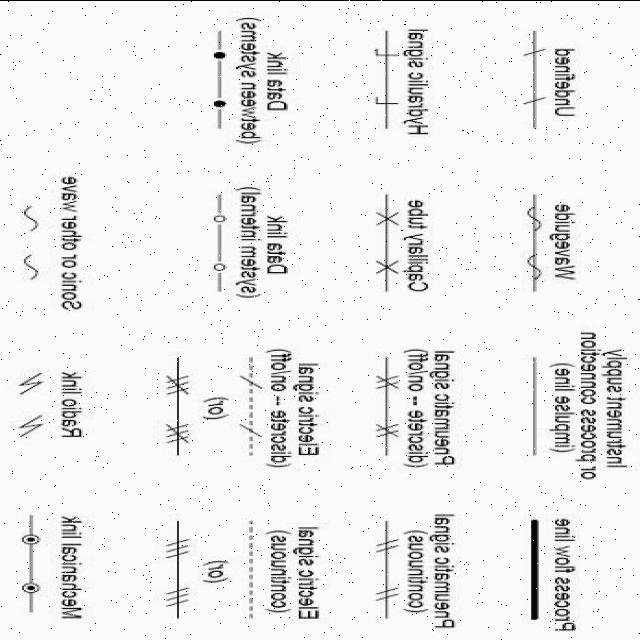radio link: (4, 412, 62, 438)
